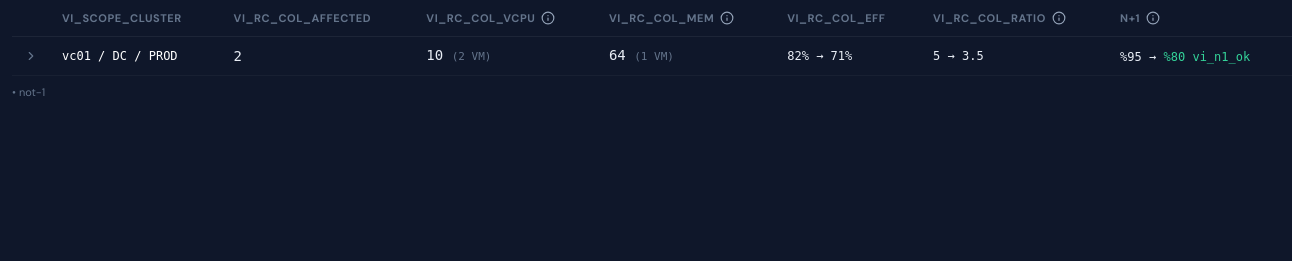
Test case: Geri kazanım simülasyonu › satır detayı gerçek TABLO: başlıklar, sınıf rozeti, önce→sonra sütunları, p95 ve gözlem günü
Click the row with test id "rc-row".
click(652, 56)  # box [12,36,1291,76]
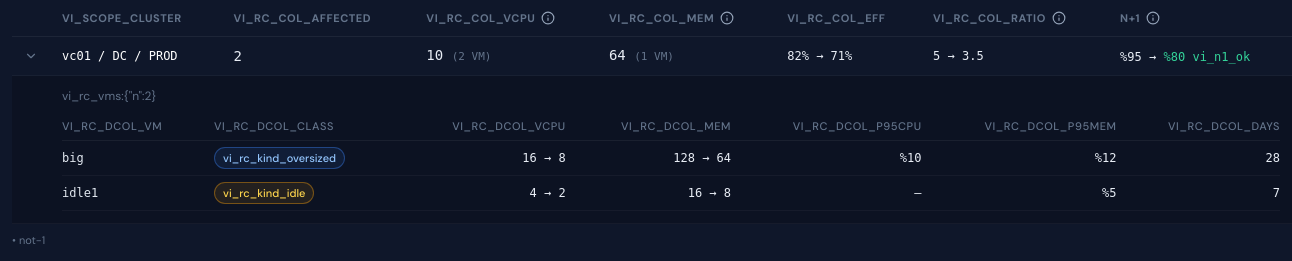
Expected: the cell "—" is shown, [743,176,934,210]
Expected: the text "vi_rc_kind_oversized" is shown, [214,147,345,169]
Expected: the text "vi_rc_kind_idle" is shown, [214,182,314,204]
